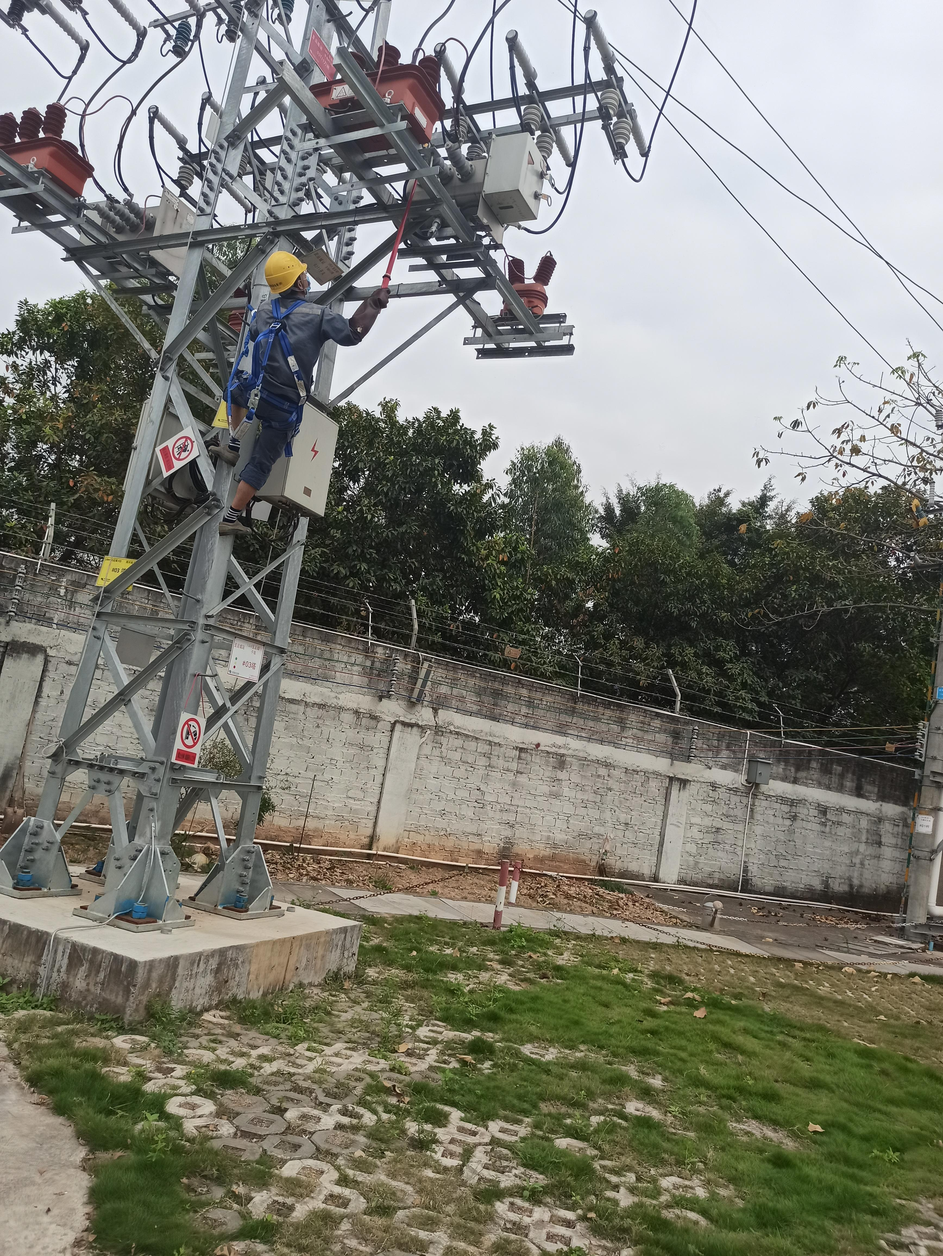绝缘操作杆: (380, 177, 419, 289)
